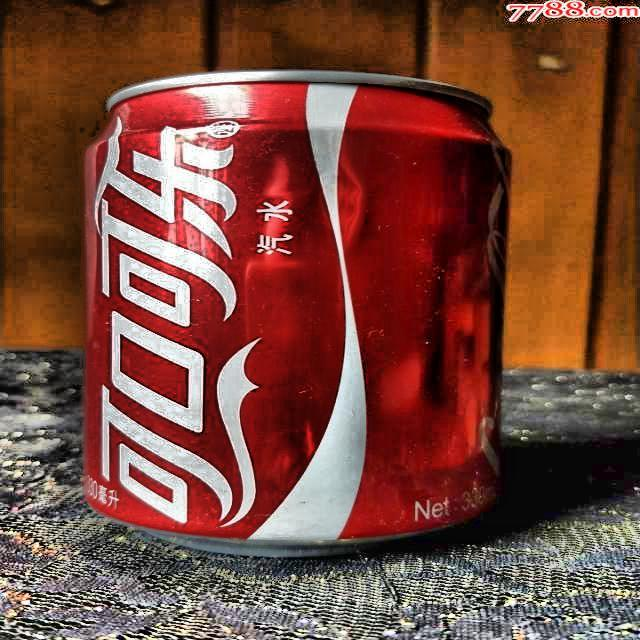can: (74, 71, 512, 568)
